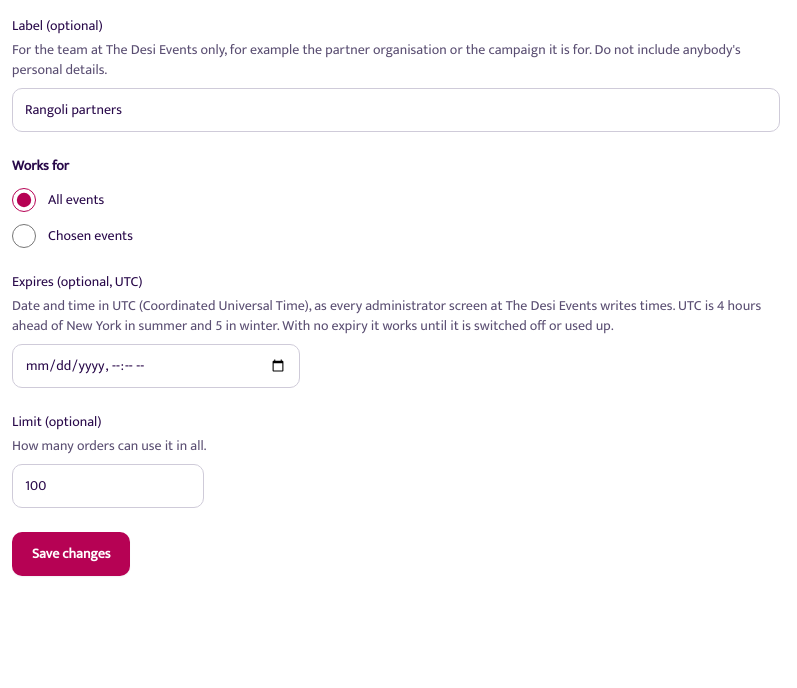
Scenario: changing a referral code › shows the API’s sentence for a limit below the uses that count now
The image size is (797, 688).
Replace the text in the field labelled "Limit (optional)" with "5" at (108, 486), box [12, 464, 204, 508]
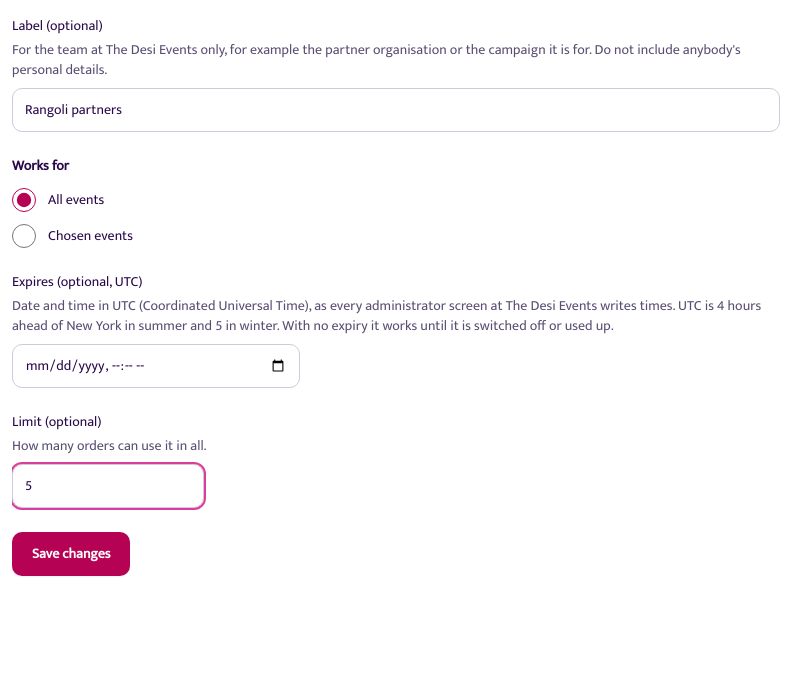
Click the button "Save changes" at (71, 554), box [12, 532, 130, 576]
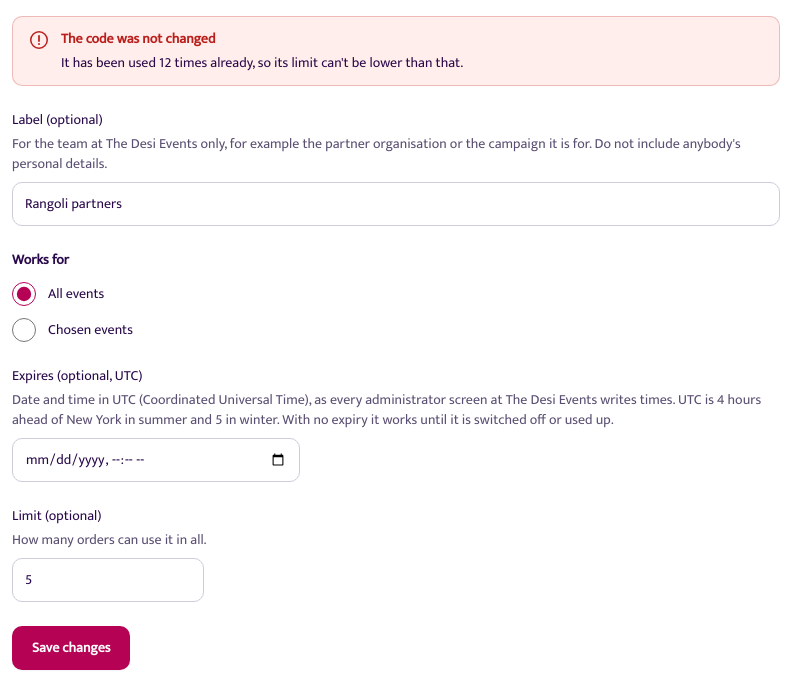
Expected: the text "It has been used 12 times already, so its limit can't be lower than that." is shown, [61, 51, 463, 74]
